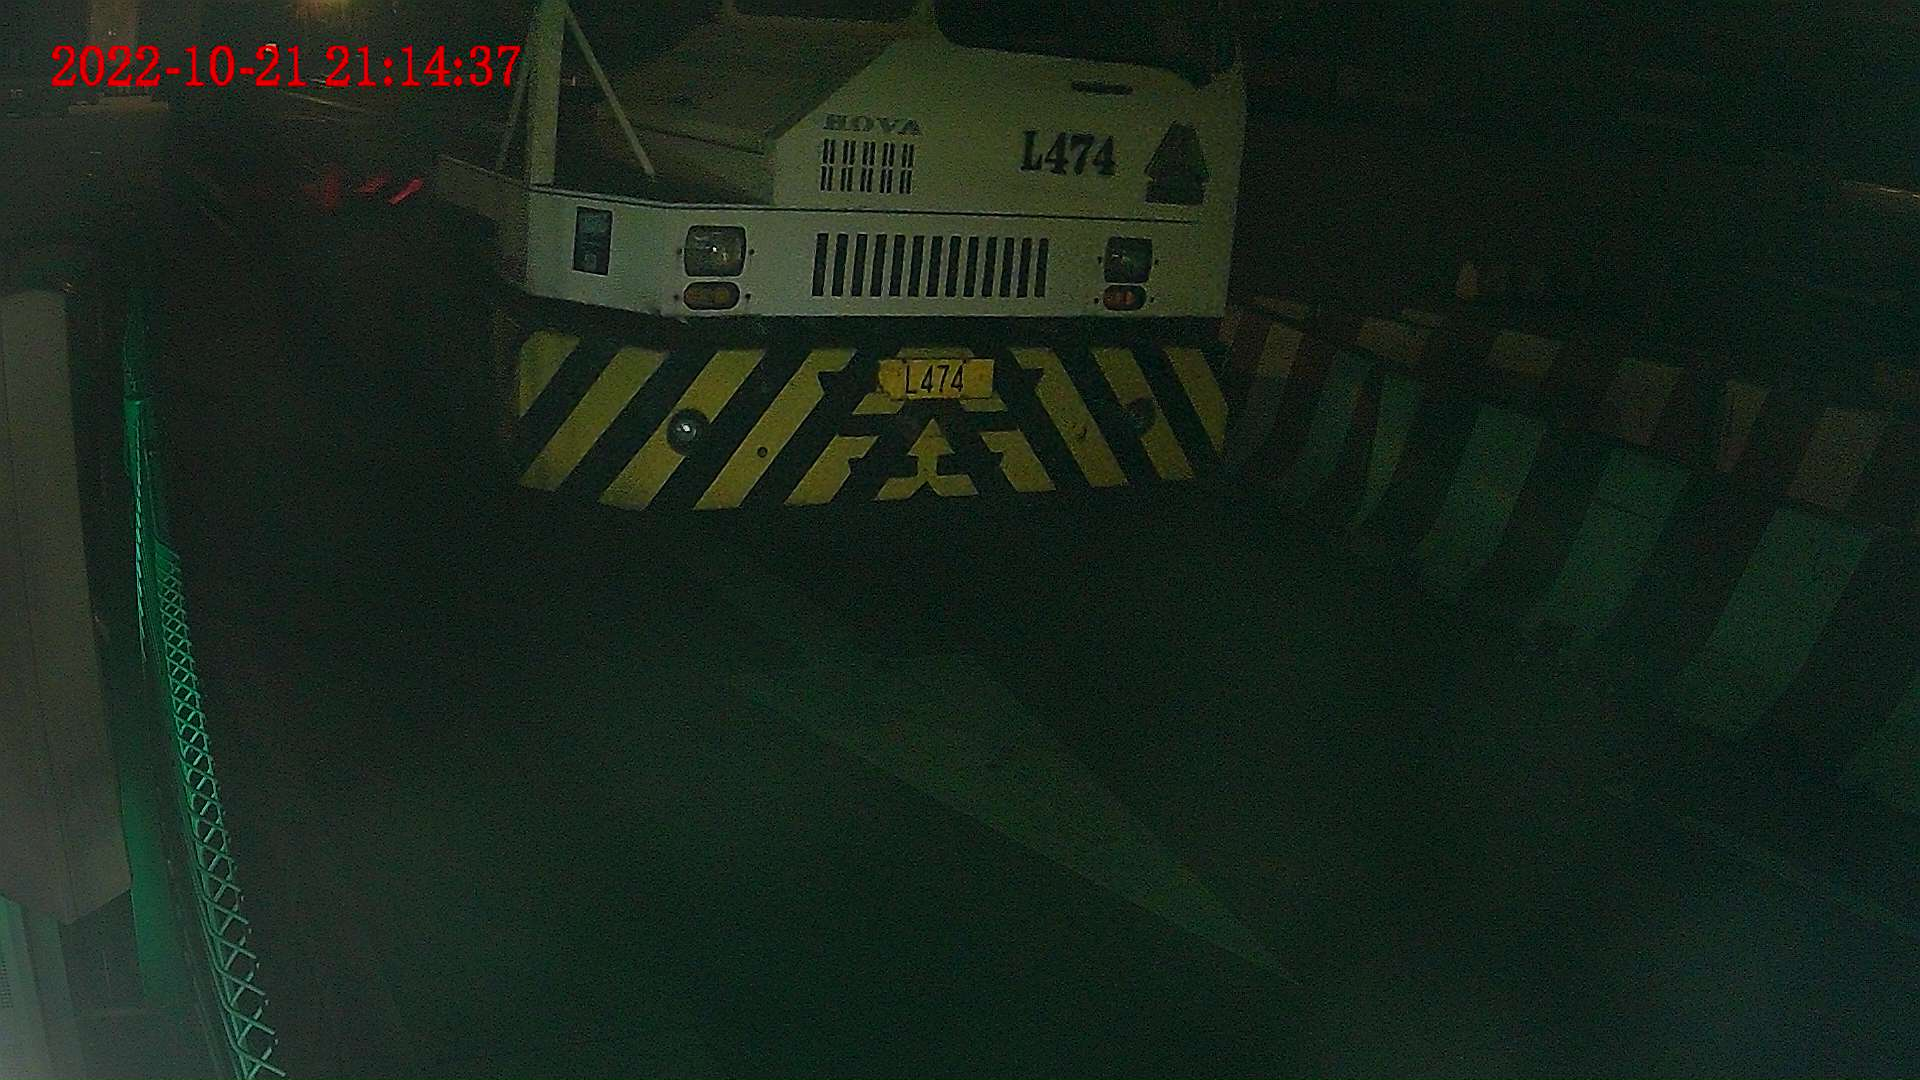head: (468, 1, 1250, 523)
plate: (875, 360, 992, 394)
